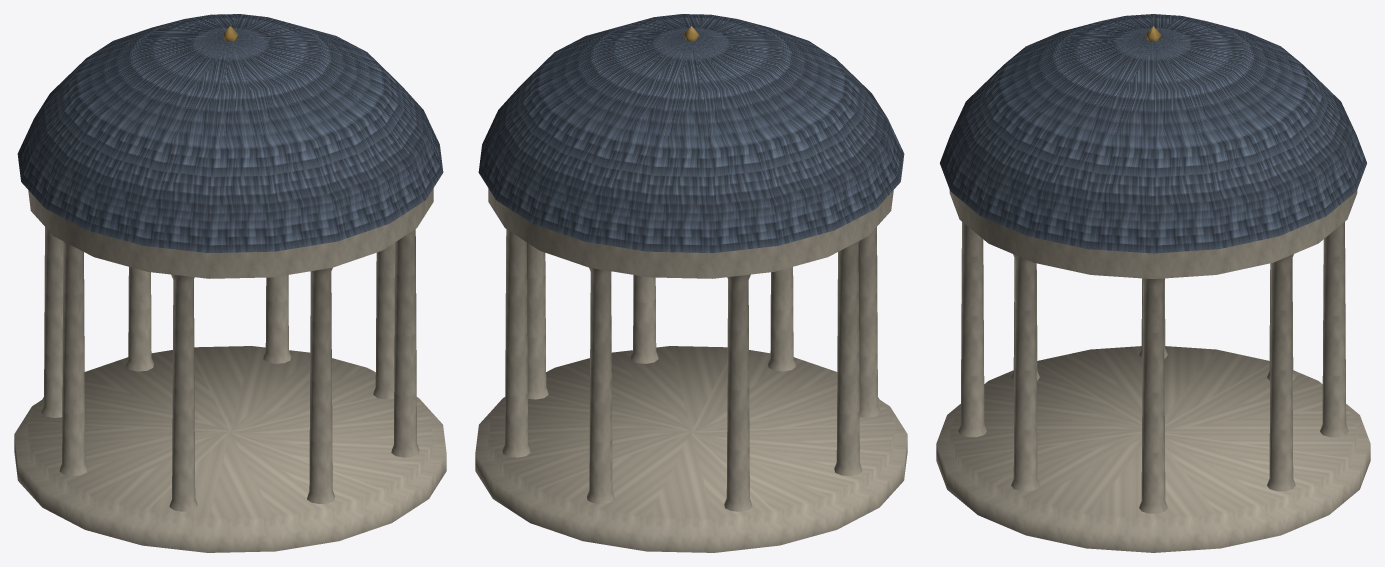
File: Gazebo_Rotunda_1.gltf
The picture shows the model from 3 angles, left to right: view 1: azimuth 30°, elevation 25°; view 2: azimuth 150°, elevation 25°; view 3: azimuth 270°, elevation 25°; orthographic projection.
Parts seen in each view (by area): view 1: Gazebo_Rotunda_1; view 2: Gazebo_Rotunda_1; view 3: Gazebo_Rotunda_1.
Part boxes in pixels (x1,y1,x2,y2): Gazebo_Rotunda_1: (14, 14, 446, 552); Gazebo_Rotunda_1: (475, 14, 907, 552); Gazebo_Rotunda_1: (936, 14, 1370, 552).
Bounding box in the file's own units: 6.6 × 7.3 × 6.6.
3 materials, 3 textured.
